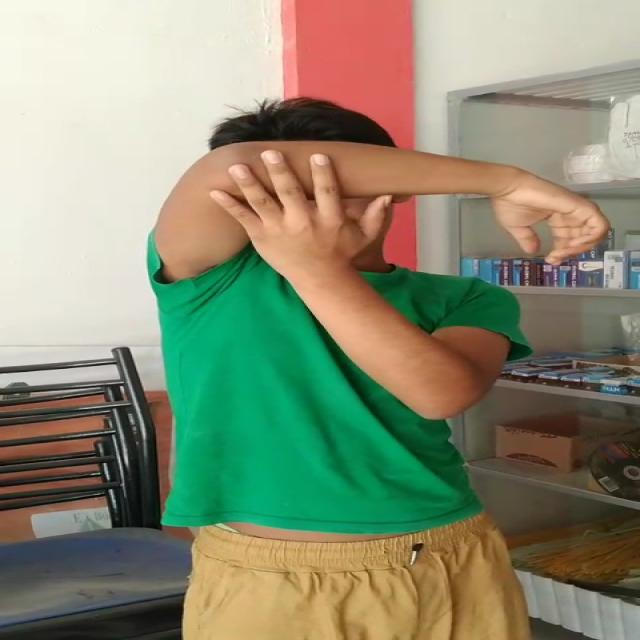7_mano_rostro: (162, 142, 463, 312)
